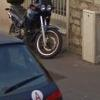Motorcycle: (4, 5, 64, 60)
